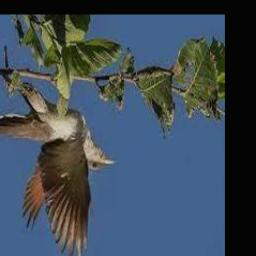Cuckoo: (0, 86, 117, 256)
